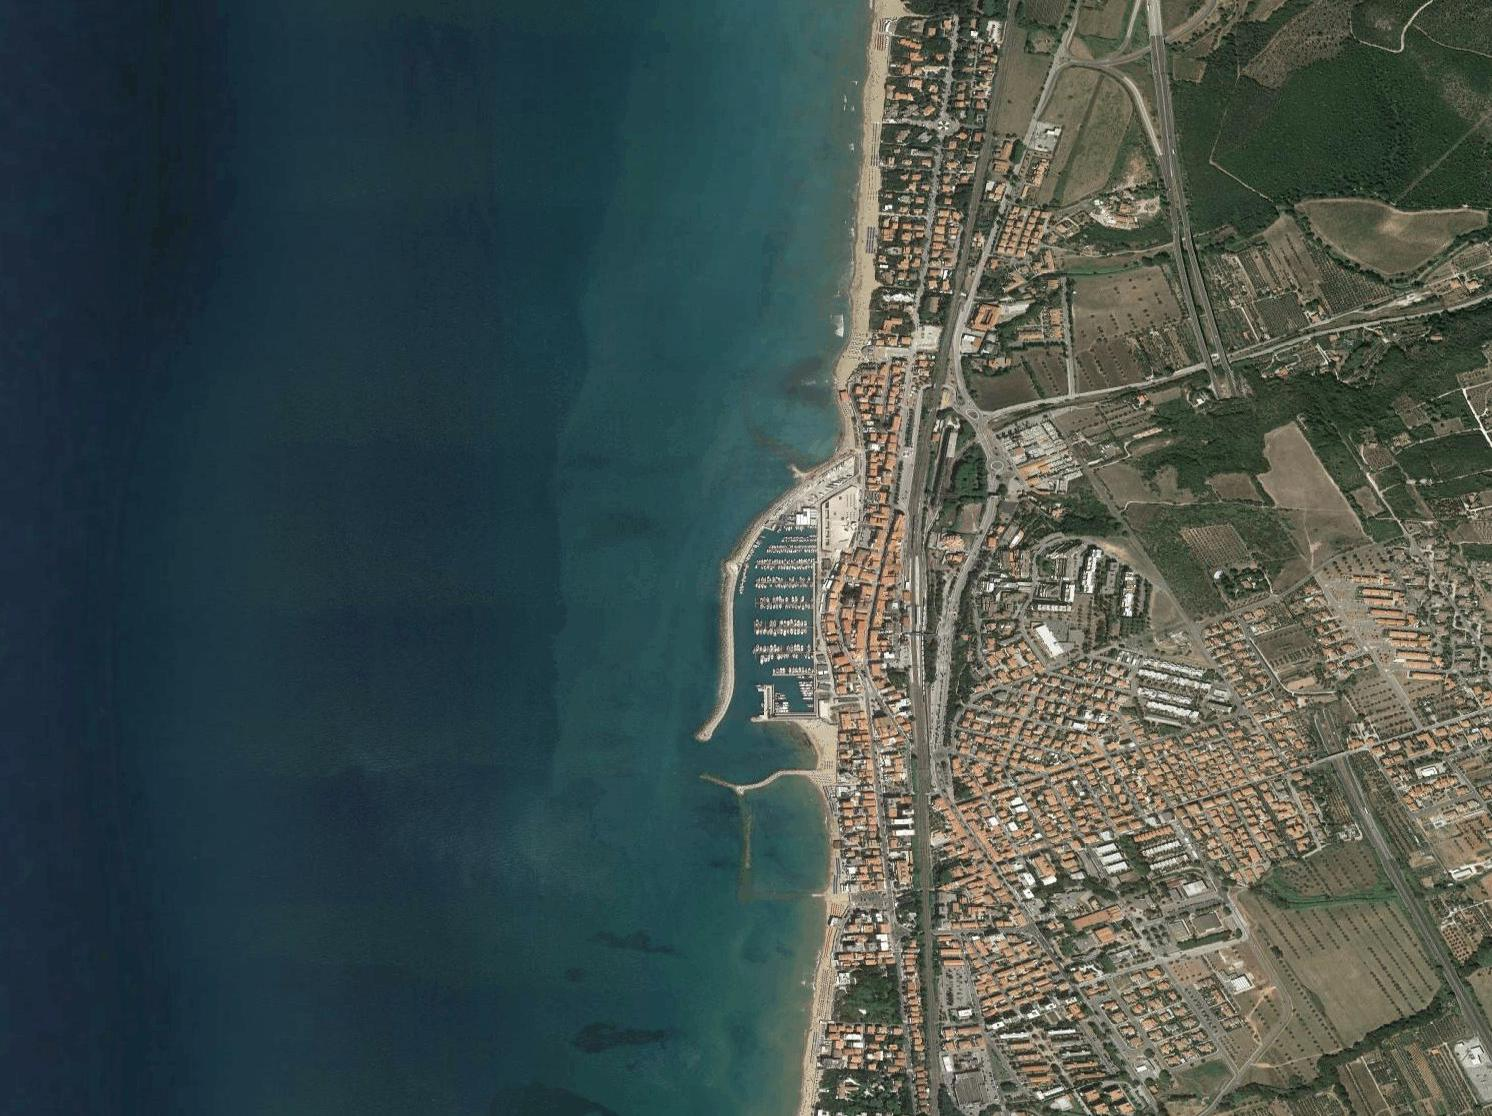harbor: (693, 452, 865, 807)
motorway: (1408, 896, 1492, 1037), (1154, 148, 1210, 298), (1139, 1, 1184, 151), (1348, 792, 1411, 898), (1183, 297, 1240, 385), (1312, 707, 1365, 795)
train_station: (907, 571, 936, 694)
